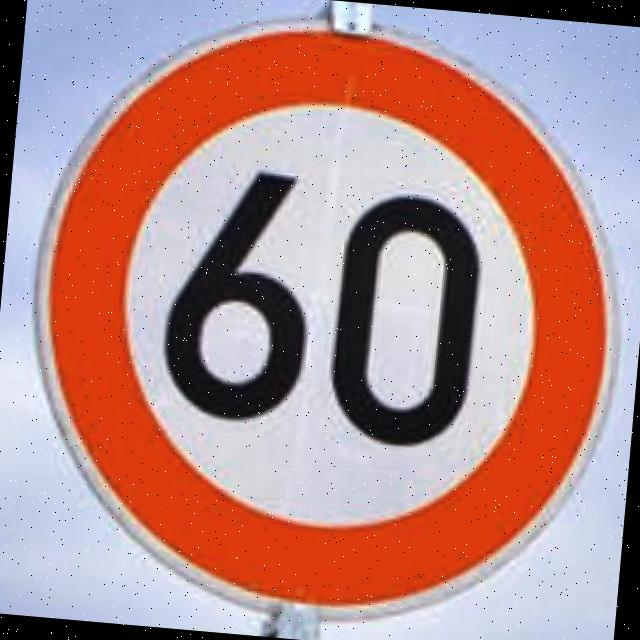Ograniczenie predkosci do 60: (5, 0, 639, 639)
